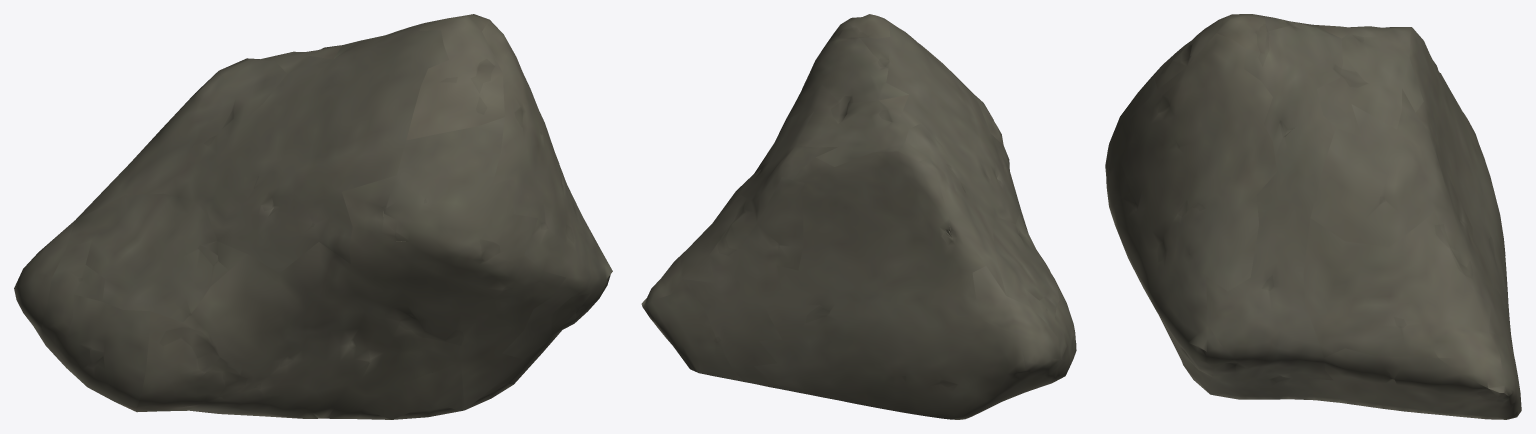
Rendered from corealm_ore_corven_spent.glb.
The picture shows the model from 3 angles, left to right: view 1: azimuth 30°, elevation 25°; view 2: azimuth 150°, elevation 25°; view 3: azimuth 270°, elevation 25°; orthographic projection. The views are drawn at different scales.
Parts seen in each view (by area): view 1: corealm_ore_corven_spent; view 2: corealm_ore_corven_spent; view 3: corealm_ore_corven_spent.
Boxes of the visible parts, x1,y1,x2,y2 form: corealm_ore_corven_spent: [14, 14, 612, 419]; corealm_ore_corven_spent: [641, 14, 1076, 419]; corealm_ore_corven_spent: [1105, 14, 1521, 419].
Bounding box in the file's own units: 2.6 × 1.85 × 1.95.
Materials: 1 (1 with a texture image).
